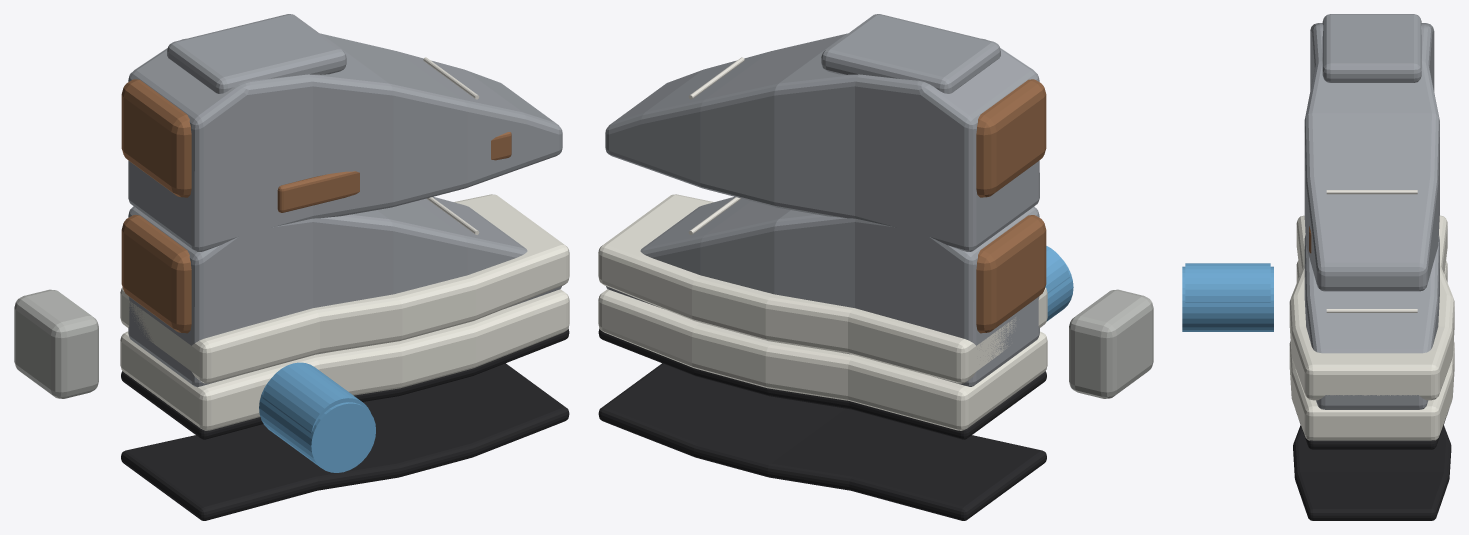
File: nike-tailwind-1978.glb
The picture shows the model from 3 angles, left to right: view 1: azimuth 30°, elevation 25°; view 2: azimuth 150°, elevation 25°; view 3: azimuth 270°, elevation 25°; orthographic projection. The views are drawn at different scales.
Parts seen in each view (by area): view 1: nike-tailwind-1978_UPPER_EXPLODED, nike-tailwind-1978_UPPER, nike-tailwind-1978_OUTSOLE_EXPLODED, nike-tailwind-1978_MIDSOLE_EXPLODED, nike-tailwind-1978_MIDSOLE, nike-tailwind-1978_TONGUE_EXPLODED, nike-tailwind-1978_HEEL_FOAM_EXPLODED, nike-tailwind-1978_HEEL_COUNTER_EXPLODED, nike-tailwind-1978_HEEL_COUNTER, nike-tailwind-1978_AIR_HEEL_EXPLODED, nike-tailwind-1978_AIR_UNIT_EXPLODED, nike-tailwind-1978_OUTSOLE (+1 smaller); view 2: nike-tailwind-1978_UPPER_EXPLODED, nike-tailwind-1978_OUTSOLE_EXPLODED, nike-tailwind-1978_UPPER, nike-tailwind-1978_MIDSOLE_EXPLODED, nike-tailwind-1978_MIDSOLE, nike-tailwind-1978_TONGUE_EXPLODED, nike-tailwind-1978_HEEL_FOAM_EXPLODED, nike-tailwind-1978_HEEL_COUNTER_EXPLODED, nike-tailwind-1978_HEEL_COUNTER, nike-tailwind-1978_OUTSOLE, nike-tailwind-1978_AIR_UNIT_EXPLODED, nike-tailwind-1978_AIR_HEEL_EXPLODED; view 3: nike-tailwind-1978_UPPER_EXPLODED, nike-tailwind-1978_OUTSOLE_EXPLODED, nike-tailwind-1978_UPPER, nike-tailwind-1978_MIDSOLE_EXPLODED, nike-tailwind-1978_TONGUE_EXPLODED, nike-tailwind-1978_MIDSOLE, nike-tailwind-1978_AIR_UNIT_EXPLODED, nike-tailwind-1978_AIR_HEEL_EXPLODED, nike-tailwind-1978_OUTSOLE, nike-tailwind-1978_LACE_5_EXPLODED, nike-tailwind-1978_LACE_5.
Boxes of the visible parts, x1,y1,x2,y2 form: nike-tailwind-1978_UPPER_EXPLODED: [128, 33, 562, 251]; nike-tailwind-1978_UPPER: [128, 196, 561, 387]; nike-tailwind-1978_OUTSOLE_EXPLODED: [121, 363, 569, 520]; nike-tailwind-1978_MIDSOLE_EXPLODED: [120, 194, 569, 383]; nike-tailwind-1978_MIDSOLE: [120, 289, 569, 430]; nike-tailwind-1978_TONGUE_EXPLODED: [167, 14, 346, 93]; nike-tailwind-1978_HEEL_FOAM_EXPLODED: [14, 289, 98, 398]; nike-tailwind-1978_HEEL_COUNTER_EXPLODED: [121, 79, 191, 197]; nike-tailwind-1978_HEEL_COUNTER: [121, 214, 191, 333]; nike-tailwind-1978_AIR_HEEL_EXPLODED: [259, 380, 375, 472]; nike-tailwind-1978_AIR_UNIT_EXPLODED: [262, 362, 370, 433]; nike-tailwind-1978_OUTSOLE: [121, 328, 569, 439]; nike-tailwind-1978_UPPER_EXPLODED: [605, 33, 1039, 251]; nike-tailwind-1978_OUTSOLE_EXPLODED: [598, 363, 1046, 520]; nike-tailwind-1978_UPPER: [606, 196, 1039, 386]; nike-tailwind-1978_MIDSOLE_EXPLODED: [598, 194, 1047, 383]; nike-tailwind-1978_MIDSOLE: [598, 289, 1047, 430]; nike-tailwind-1978_TONGUE_EXPLODED: [821, 14, 1000, 93]; nike-tailwind-1978_HEEL_FOAM_EXPLODED: [1069, 289, 1153, 398]; nike-tailwind-1978_HEEL_COUNTER_EXPLODED: [976, 79, 1046, 197]; nike-tailwind-1978_HEEL_COUNTER: [976, 215, 1046, 333]; nike-tailwind-1978_OUTSOLE: [598, 328, 1046, 439]; nike-tailwind-1978_AIR_UNIT_EXPLODED: [1045, 246, 1069, 293]; nike-tailwind-1978_AIR_HEEL_EXPLODED: [1046, 259, 1073, 321]; nike-tailwind-1978_UPPER_EXPLODED: [1304, 23, 1439, 291]; nike-tailwind-1978_OUTSOLE_EXPLODED: [1293, 425, 1451, 520]; nike-tailwind-1978_UPPER: [1304, 235, 1439, 409]; nike-tailwind-1978_MIDSOLE_EXPLODED: [1289, 215, 1454, 400]; nike-tailwind-1978_TONGUE_EXPLODED: [1322, 14, 1421, 82]; nike-tailwind-1978_MIDSOLE: [1289, 260, 1454, 440]; nike-tailwind-1978_AIR_UNIT_EXPLODED: [1185, 263, 1270, 302]; nike-tailwind-1978_AIR_HEEL_EXPLODED: [1182, 266, 1273, 331]; nike-tailwind-1978_OUTSOLE: [1296, 413, 1447, 449]; nike-tailwind-1978_LACE_5_EXPLODED: [1326, 190, 1417, 194]; nike-tailwind-1978_LACE_5: [1326, 309, 1417, 312].
Size of the model in its own units: 0.387 by 0.313 by 0.208.
